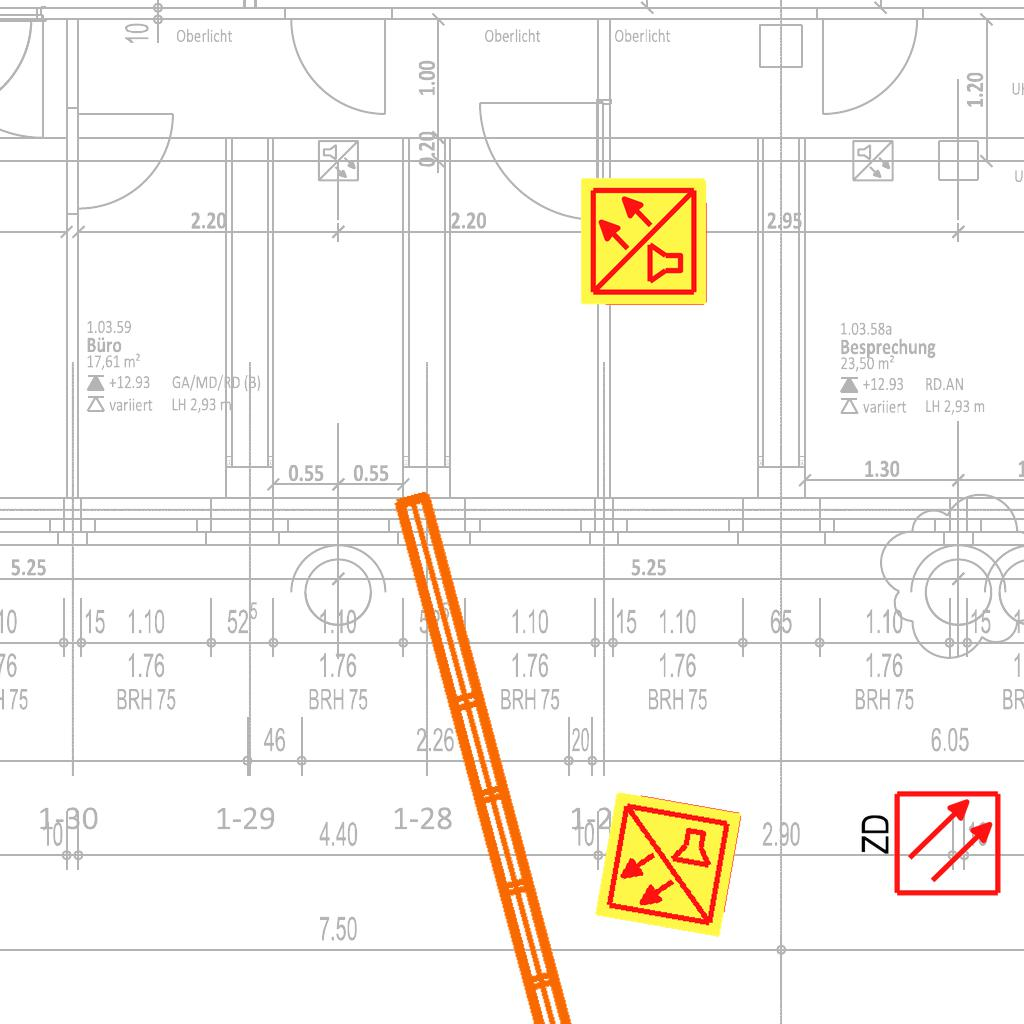Ambulanz_Pendelleuchte_LED: (378, 463, 688, 1024)
OKW_Multisensormelder_(Kombination_optischer_Rauch-Kahlenmonoxid_Waerme-Melder): (591, 787, 745, 941), (578, 175, 710, 307)
ZD_Melder_in_Zwischendecke_mit_Revisionsoeffnung_mind_40_x_40_cm: (854, 788, 1003, 902)
